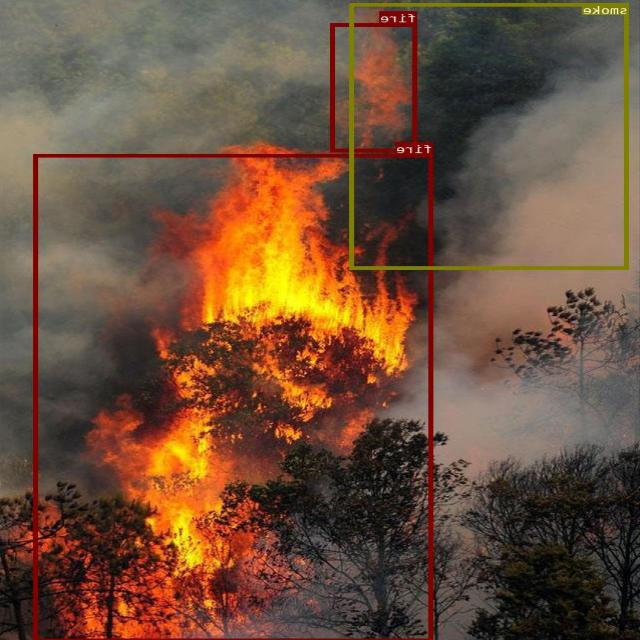fire: (35, 154, 433, 640), (332, 22, 418, 152)
smoke: (350, 3, 630, 269)
